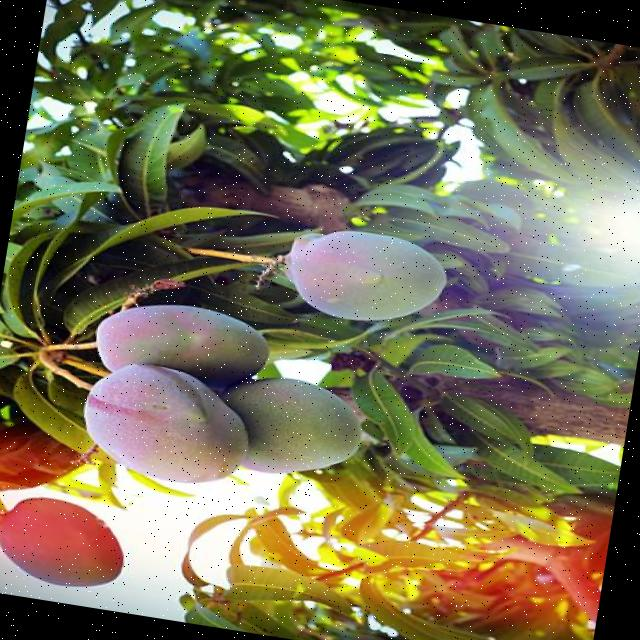mango: (86, 363, 248, 482), (285, 230, 446, 320), (96, 304, 269, 386), (224, 377, 361, 473), (0, 499, 123, 586)
